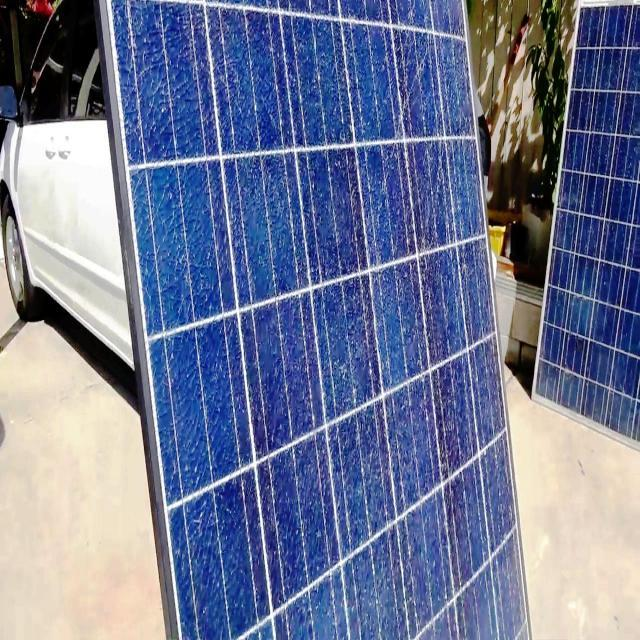faulty: (106, 2, 532, 640), (537, 3, 640, 457)
